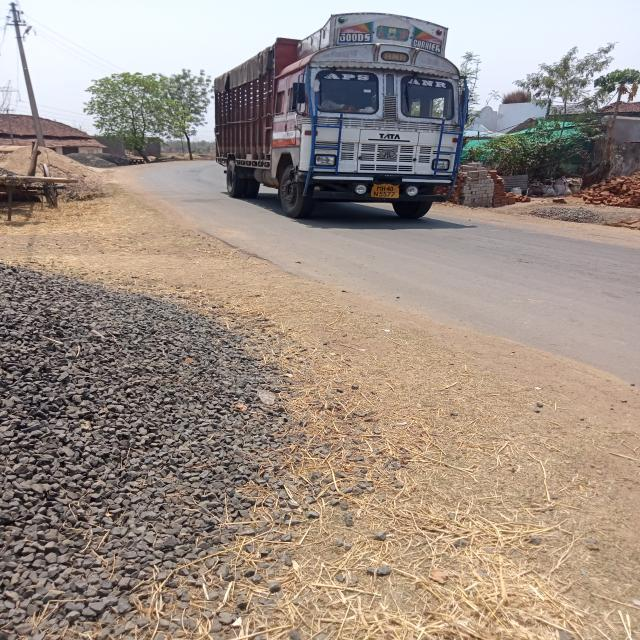Truck: (164, 26, 512, 228)
